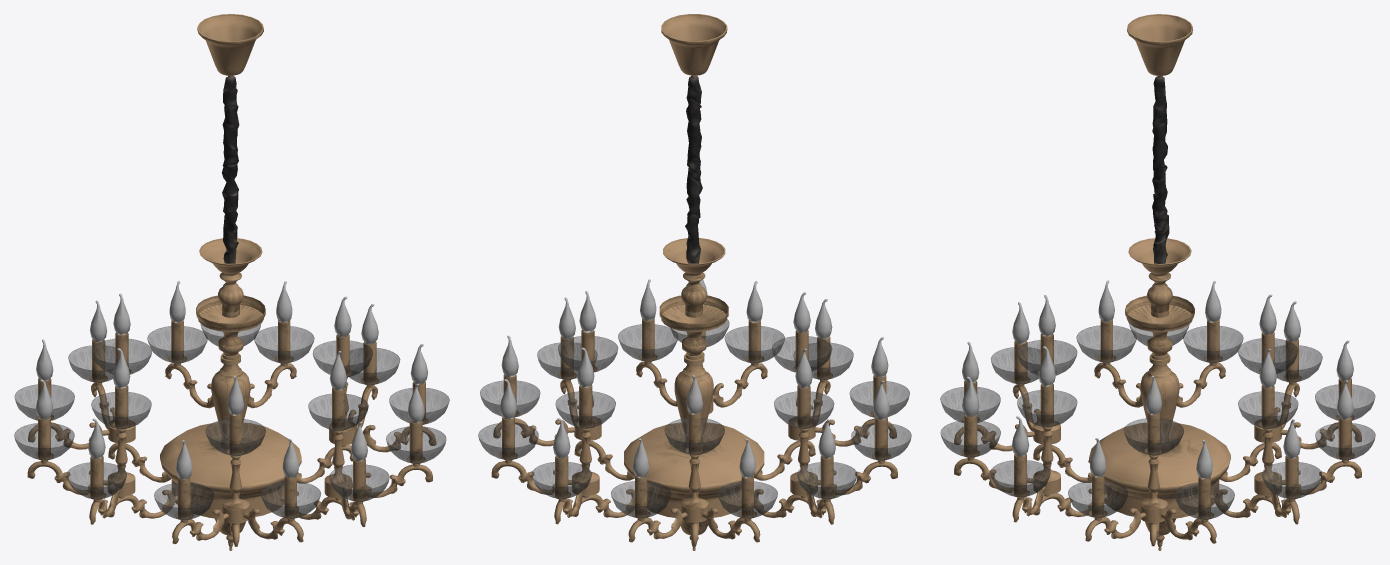
Rendered from chandelier-03.glb.
The picture shows the model from 3 angles, left to right: view 1: azimuth 30°, elevation 25°; view 2: azimuth 150°, elevation 25°; view 3: azimuth 270°, elevation 25°; orthographic projection.
Visible parts, largest first — view 1: Chandelier_03; view 2: Chandelier_03; view 3: Chandelier_03.
Boxes of the visible parts, left/top/right/bottom form: Chandelier_03: left=14, top=14, right=449, bottom=550; Chandelier_03: left=478, top=14, right=911, bottom=550; Chandelier_03: left=940, top=14, right=1375, bottom=550.
Size of the model in its own units: 0.7804 by 1.04 by 0.7854.
Materials: 2 (2 with a texture image).
